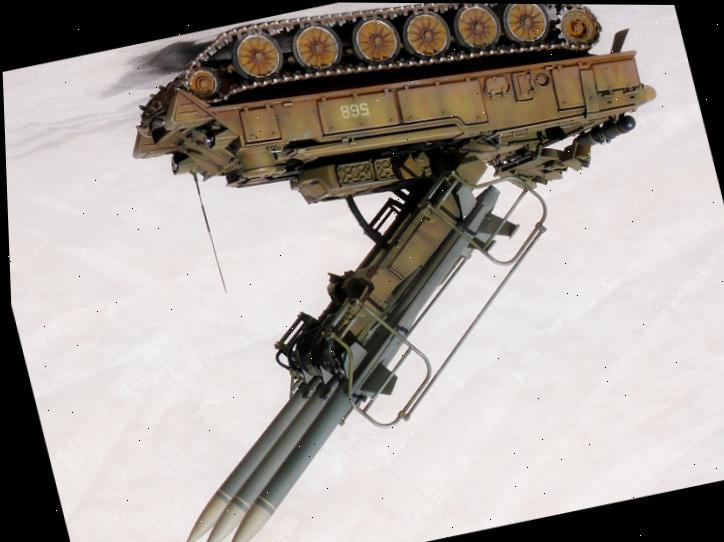armored_car: (56, 0, 724, 542)
